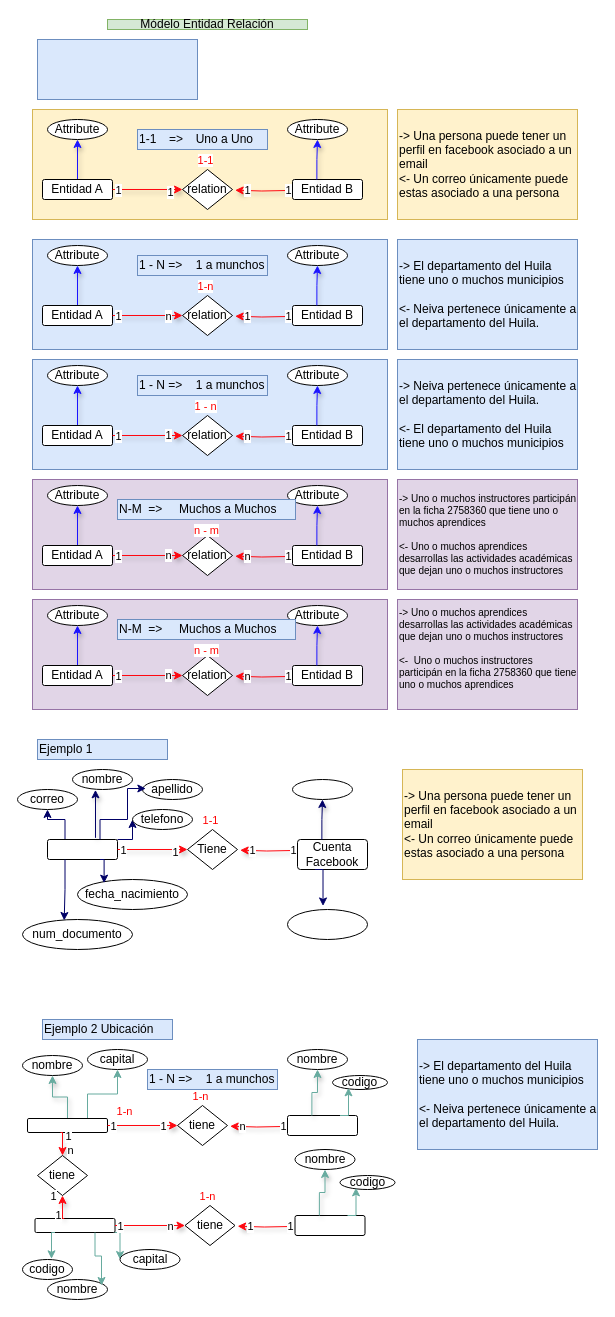
Some shapes in this 615 by 1317 pixel diagram are drawn without their labels. The shapes that lost their labels are listed below. From the top down, each one's centre as x and y in pixels, then its label:
At point 117,69: "1-1 => Uno a Uno 1 - N => 1 a munchos N-M => Muchos a Muchos".
At point 322,789: "Usuario".
At point 82,849: "Persona".
At point 327,924: "Contrasenia".
At point 67,1125: "Pais".
At point 322,1125: "Continente".
At point 74,1225: "Departamento".
At point 329,1225: "Municipio".
